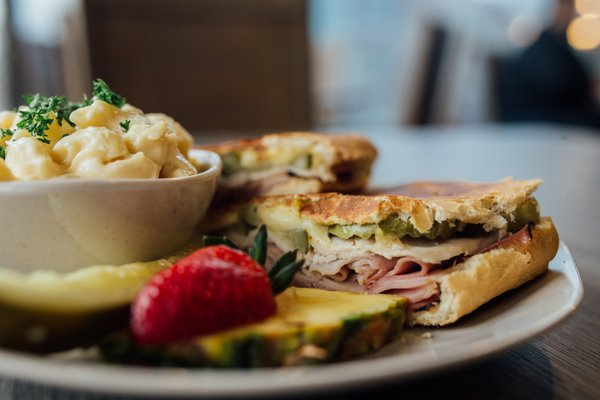soup: (243, 175, 561, 327)
sushi: (0, 146, 222, 269)
